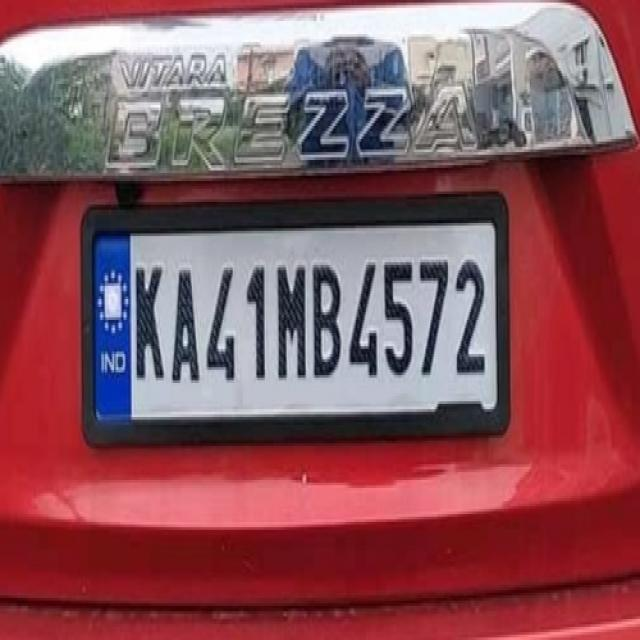1: (240, 252, 274, 390)
4: (203, 256, 241, 386), (348, 255, 383, 388)
5: (381, 246, 416, 381)
7: (418, 250, 450, 381)
A: (171, 262, 201, 393)
B: (312, 258, 344, 382)
K: (131, 258, 167, 382)
M: (276, 258, 310, 382)
